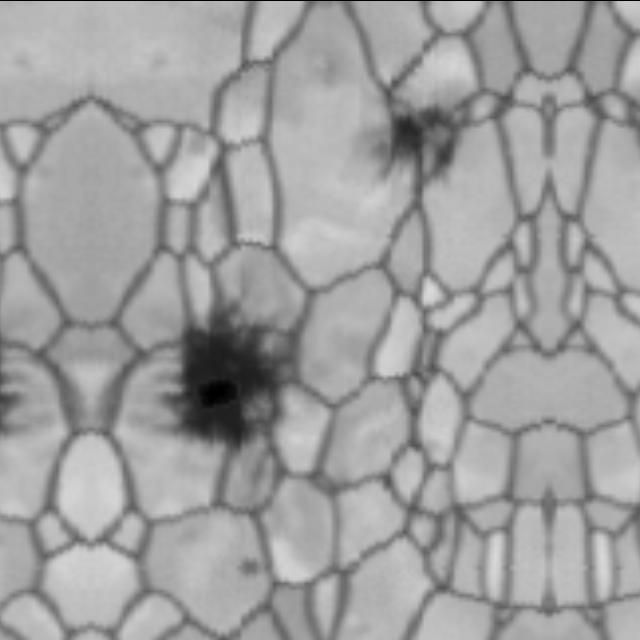good_void: (158, 290, 315, 454), (357, 91, 468, 192), (239, 549, 262, 586)
